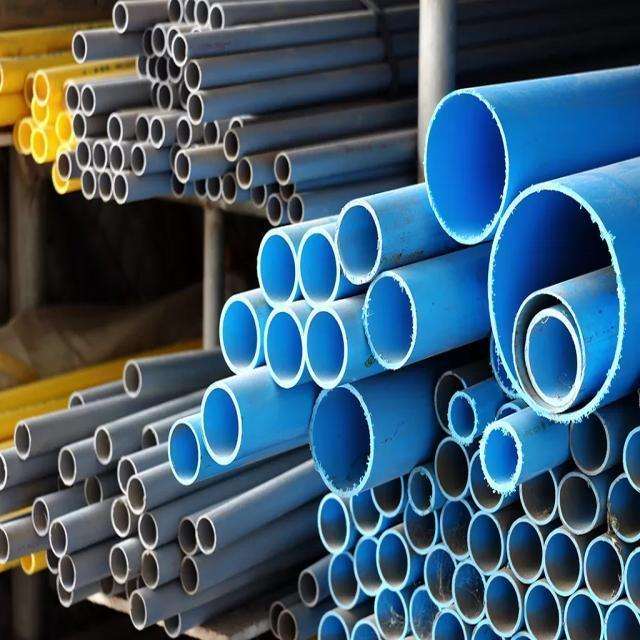pipe: (490, 188, 622, 418), (427, 91, 504, 237), (309, 389, 372, 494), (364, 273, 415, 366), (337, 204, 379, 278), (307, 309, 344, 384), (203, 386, 241, 459), (265, 314, 301, 387), (299, 232, 336, 302), (482, 424, 520, 488), (260, 233, 294, 304), (223, 300, 256, 371), (586, 539, 622, 601), (572, 412, 608, 471), (435, 439, 469, 499), (546, 533, 580, 592), (560, 476, 597, 530), (509, 521, 542, 579), (486, 575, 518, 634), (470, 514, 502, 572), (526, 585, 559, 640), (610, 478, 640, 538), (522, 470, 556, 520), (170, 423, 199, 480), (471, 454, 501, 509), (455, 564, 485, 618), (443, 501, 472, 556), (427, 549, 456, 603), (437, 374, 464, 431), (379, 533, 407, 587), (377, 588, 405, 640), (412, 588, 440, 640), (405, 503, 436, 549), (331, 555, 358, 605), (449, 394, 477, 441), (321, 498, 346, 550), (357, 540, 382, 591), (606, 604, 640, 640), (352, 489, 380, 532), (372, 477, 403, 513), (435, 613, 466, 640), (626, 429, 640, 487), (411, 472, 432, 510), (626, 553, 640, 609), (197, 518, 214, 551), (119, 459, 135, 493), (111, 547, 127, 581), (300, 571, 316, 603), (180, 521, 196, 553), (143, 553, 158, 587), (140, 514, 156, 545), (113, 500, 128, 533), (182, 558, 197, 591), (129, 479, 144, 511), (131, 593, 145, 627), (279, 611, 295, 640), (96, 429, 110, 462), (15, 424, 29, 457), (51, 522, 65, 555), (354, 623, 381, 640), (31, 131, 46, 161), (34, 501, 48, 533), (60, 557, 74, 589), (174, 153, 189, 182), (130, 146, 145, 175), (86, 476, 101, 505), (125, 364, 139, 395), (188, 93, 202, 123), (267, 195, 281, 224), (81, 85, 95, 114), (35, 74, 49, 103), (224, 131, 238, 160), (151, 25, 165, 54), (271, 605, 284, 636), (61, 451, 74, 482), (274, 156, 289, 182), (194, 0, 209, 26), (237, 159, 251, 186), (57, 114, 71, 141), (158, 84, 172, 111), (173, 36, 186, 65), (108, 116, 122, 142), (32, 99, 46, 125), (98, 173, 112, 199), (186, 63, 200, 89), (93, 143, 106, 170), (150, 119, 163, 146), (222, 176, 236, 201), (289, 197, 303, 222), (109, 146, 123, 171), (204, 121, 218, 146), (66, 85, 79, 111), (77, 142, 90, 168), (177, 119, 190, 145), (73, 35, 86, 61), (57, 152, 70, 178), (114, 3, 126, 31), (115, 176, 127, 203), (82, 171, 94, 197), (136, 117, 148, 142), (20, 122, 32, 147), (59, 579, 71, 603), (210, 6, 223, 28), (165, 614, 178, 636), (171, 175, 184, 195), (207, 179, 220, 199), (181, 82, 192, 105), (169, 0, 181, 21), (143, 430, 157, 448), (47, 549, 59, 570), (74, 114, 84, 138), (101, 574, 113, 594), (0, 531, 8, 560), (185, 0, 195, 23), (144, 31, 153, 55), (252, 186, 264, 204), (169, 59, 180, 78), (281, 184, 294, 200), (158, 58, 167, 79), (138, 55, 147, 75), (22, 554, 32, 571), (0, 458, 5, 486), (70, 397, 82, 408)
